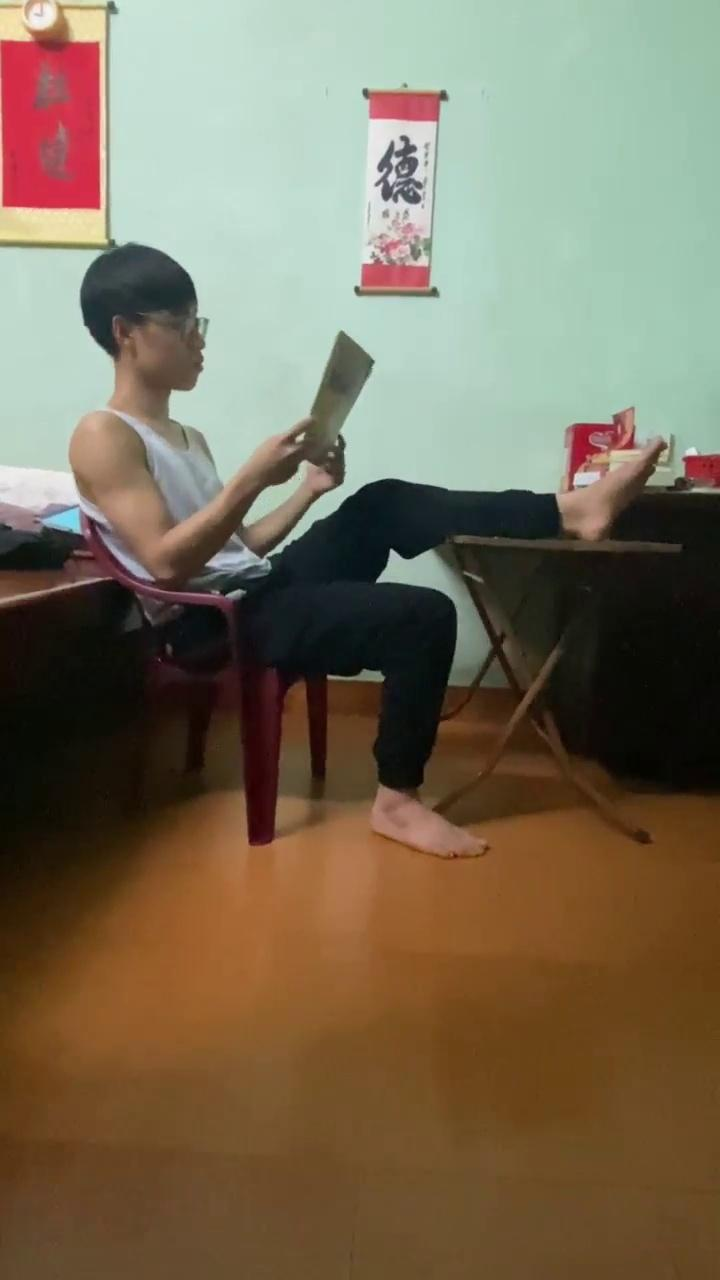BadPosture: (295, 439, 664, 858)
